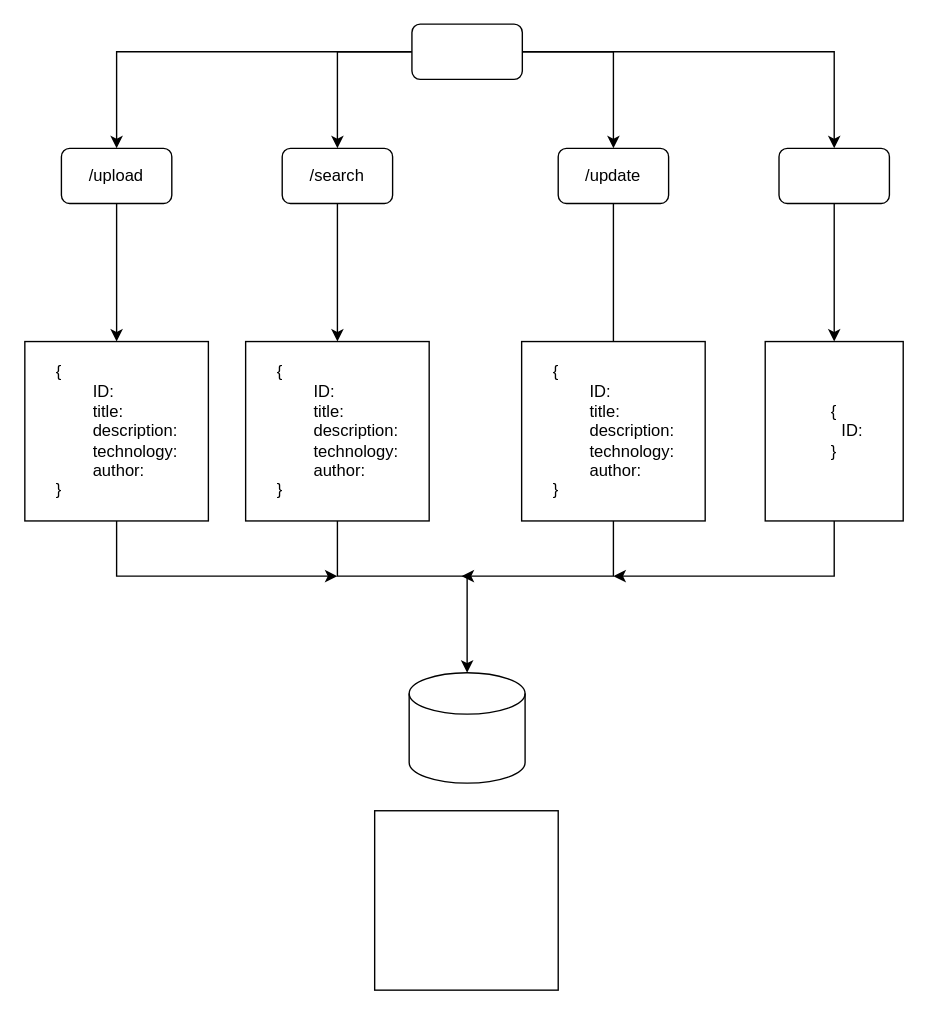
This 927x1014 diagram has some shape labels left out. The shapes that lost their labels are listed below. From the top down, each one's centre as x and y in pixels, then its label:
At point (466, 51): "/login".
At point (833, 175): "/delete".
At point (465, 899): "{ ID: title: description: technology: }".
